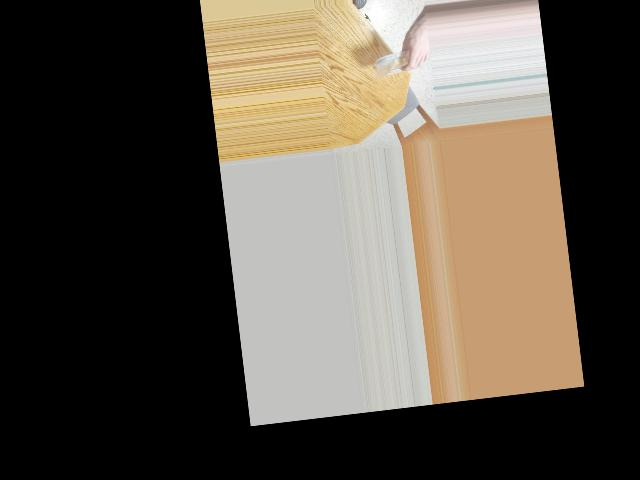cheese: (371, 32, 423, 85)
